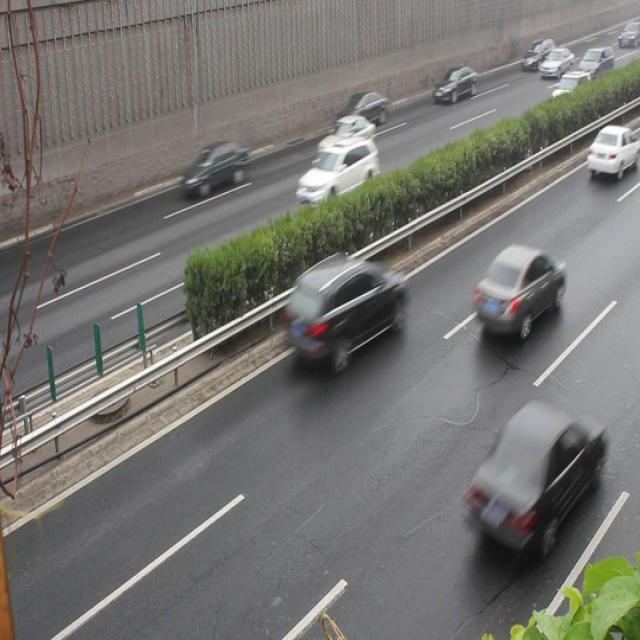car: (464, 398, 604, 556), (287, 256, 407, 370), (471, 244, 564, 339), (294, 137, 379, 210), (180, 140, 250, 200), (316, 116, 375, 162), (333, 89, 387, 130), (431, 66, 477, 107)
